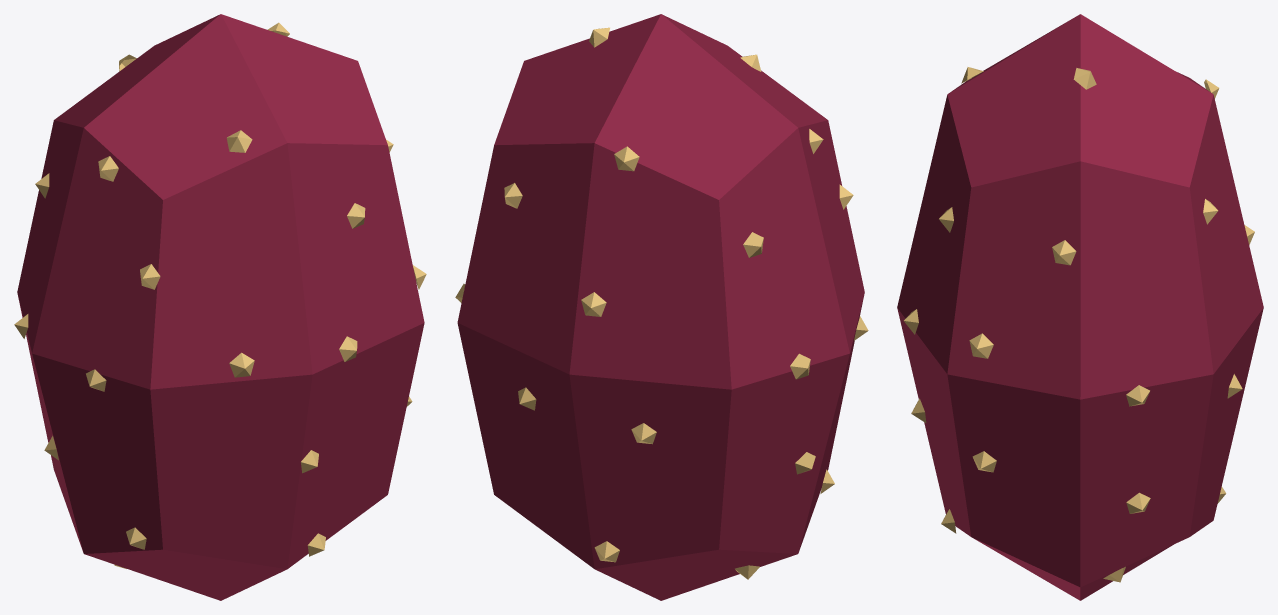
File: Iguaraya_fruta.fbx
3 views of the same model, side by side, from view 1: azimuth 30°, elevation 25°; view 2: azimuth 150°, elevation 25°; view 3: azimuth 270°, elevation 25° (orthographic).
Visible parts, largest first — view 1: Cube; view 2: Cube; view 3: Cube.
Part boxes in pixels (bbox=[...]): Cube: bbox=[14, 14, 426, 600]; Cube: bbox=[455, 14, 868, 600]; Cube: bbox=[897, 14, 1263, 600].
Size of the model in its own units: 200 by 297 by 168.
